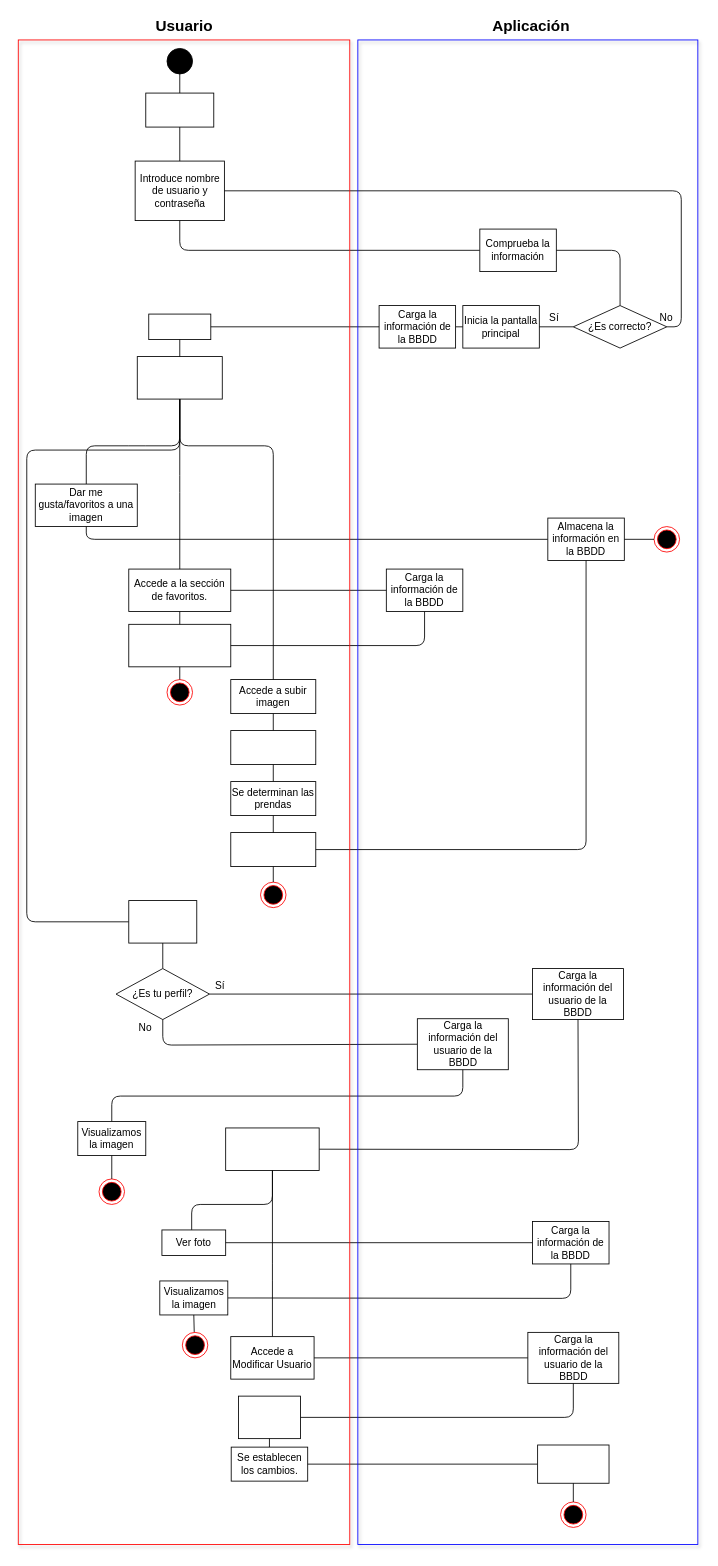
Some shapes in this 718 by 1566 pixel diagram are drawn without their labels. Each missing label, with the centre of its shape:
"Accede a un perfil" belongs at pixel 162 921.
"Actualiza la información en la BBDD" belongs at pixel 573 1463.
"Confirmar imagen" belongs at pixel 273 849.
"Inicia el programa" belongs at pixel 179 109.
"Inicia sesión" belongs at pixel 179 326.
"Selecciona la imagen" belongs at pixel 273 747.
"Visualiza la información de tu usuario." belongs at pixel 272 1148.
"Visualiza la pantalla principal" belongs at pixel 179 377.
"Visualiza las imágenes favoritas" belongs at pixel 179 645.
"Visualiza Modificar Usuario" belongs at pixel 269 1417.
